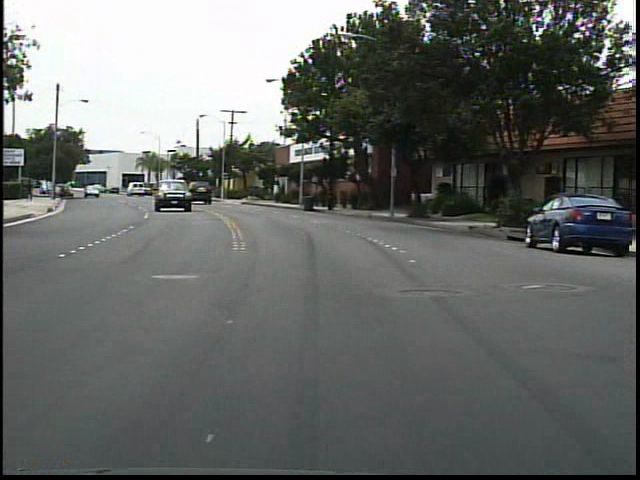person: (23, 183, 34, 204)
